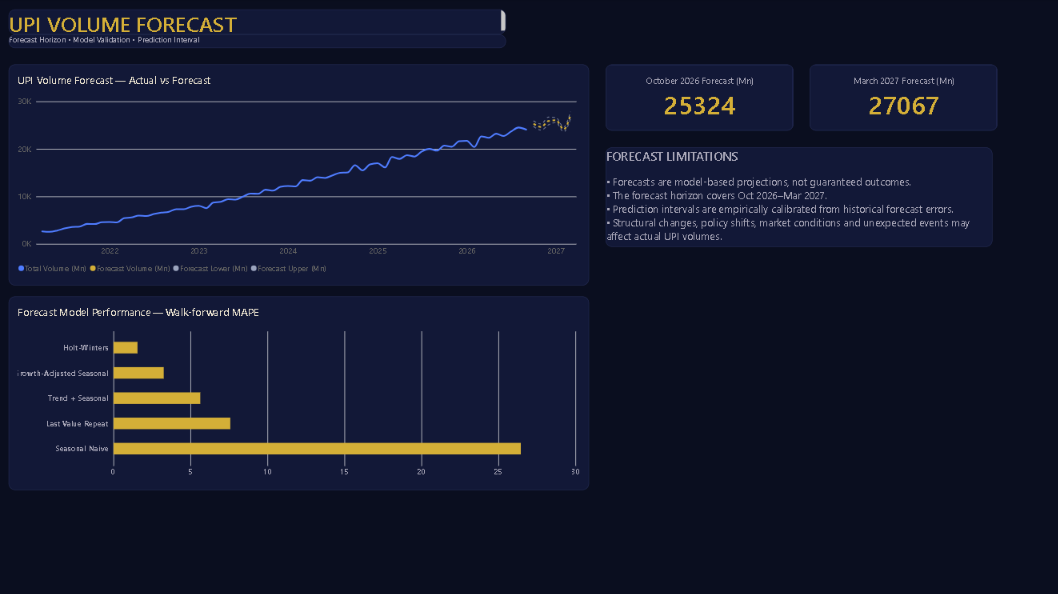

What the dashboard file says about the page in this screenshot:
{"tool":"powerbi","page":{"name":"Forecast","canvas":[1920,1080],"ordinal":3},"visuals":[{"type":"textbox","box":[20,20,900,45],"z":0},{"type":"textbox","box":[20,66,900,25],"z":1000},{"type":"lineChart","title":"UPI Volume Forecast — Actual vs Forecast","fields":{"Category":["DimDate.Date"],"Y":["_Measures.Total Volume (Mn)","_Measures.Forecast Volume (Mn)","_Measures.Forecast Lower (Mn)","_Measures.Forecast Upper (Mn)"]},"box":[20,120,1050,400],"z":2000},{"type":"cardVisual","fields":{"Data":["_Measures.October 2026 Forecast (Mn)"]},"box":[1100,120,340,120],"z":3000},{"type":"cardVisual","fields":{"Data":["_Measures.March 2027 Forecast (Mn)"]},"box":[1470,120,340,120],"z":4000},{"type":"clusteredBarChart","title":"Forecast Model Performance — Walk-forward MAPE","fields":{"Category":["Forecast Models.Model"],"Y":["_Measures.Forecast Model MAPE %"]},"box":[20,540,1050,350],"z":5000},{"type":"textbox","box":[1100,270,700,180],"z":6000}]}

Visuals, with their boxes in screenshot pixels (x1, y1, x2, y2), scaled from the page's 1920x1080 canvas onto the 1058x594 screenshot:
textbox: 11 11 507 36
textbox: 11 36 507 50
"UPI Volume Forecast — Actual vs Forecast" lineChart: 11 66 590 286
cardVisual - _Measures.October 2026 Forecast (Mn): 606 66 794 132
cardVisual - _Measures.March 2027 Forecast (Mn): 810 66 997 132
"Forecast Model Performance — Walk-forward MAPE" clusteredBarChart: 11 297 590 490
textbox: 606 148 992 248
